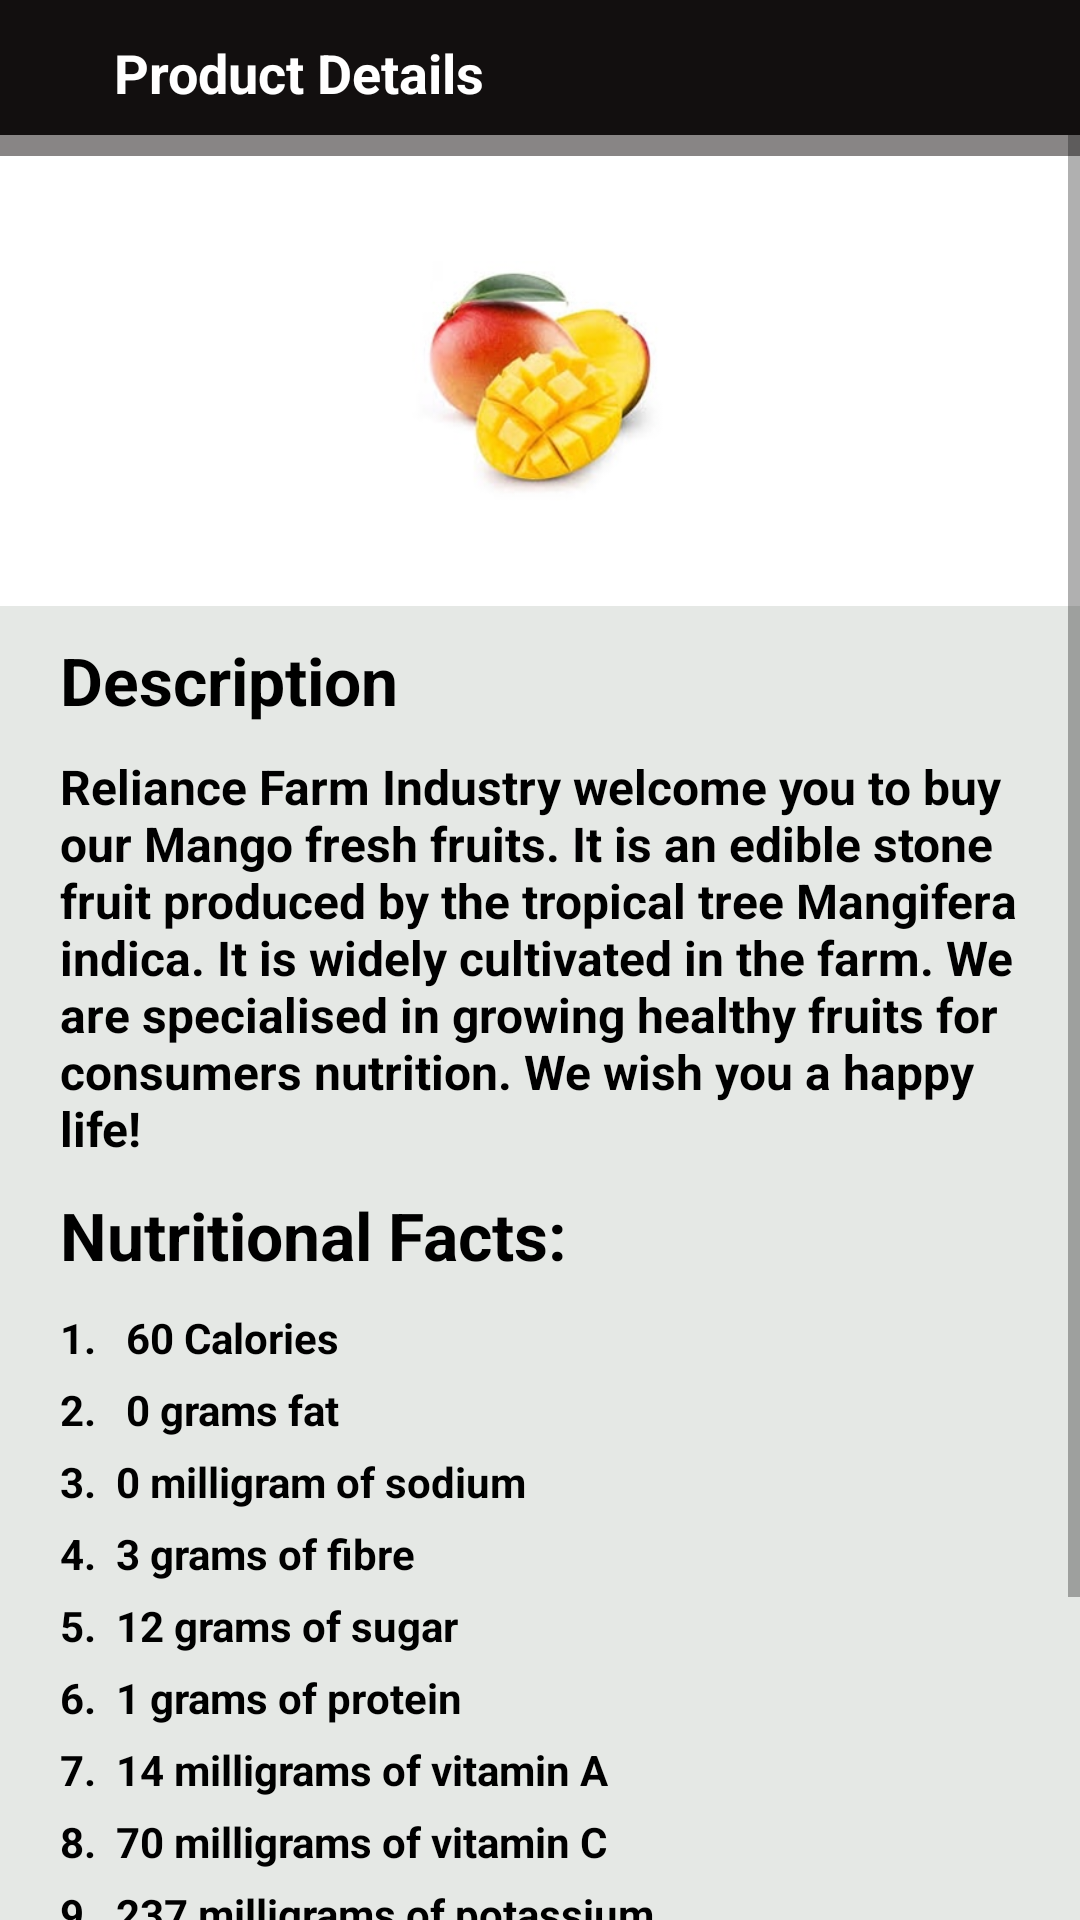

Icon bounding boxes for this 1080px x 1920px phone screenshot, format (x1, y1, x2, y2):
mango: (430, 273, 651, 488)
